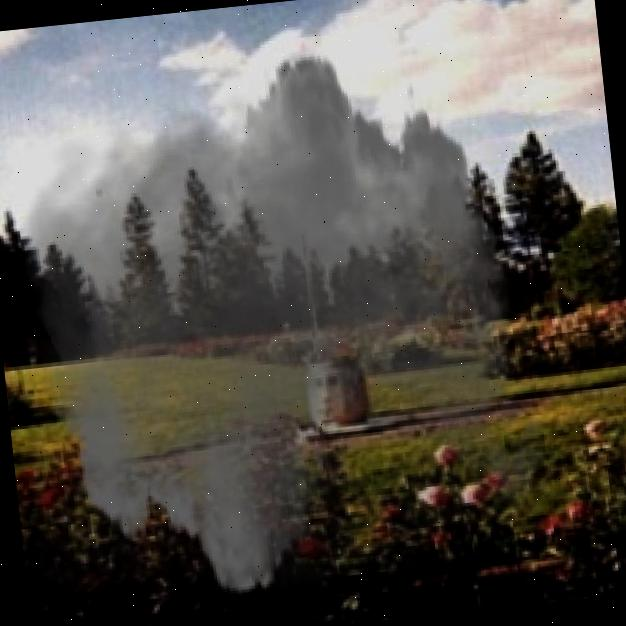smoke: (0, 15, 576, 626)
